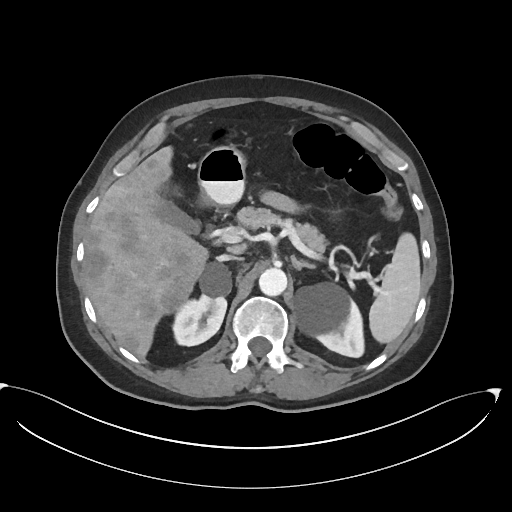Lesion: (290, 282, 354, 339)
